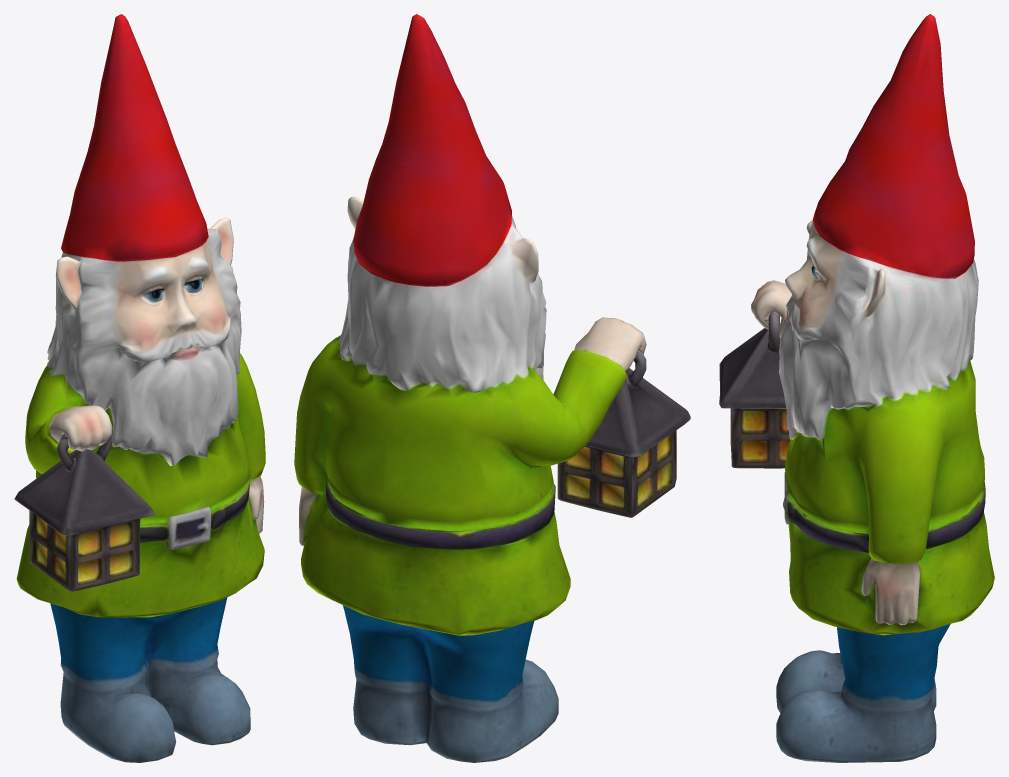
File: garden_gnome.gltf
3 renders of one model, left to right at view 1: azimuth 30°, elevation 25°; view 2: azimuth 150°, elevation 25°; view 3: azimuth 270°, elevation 25°, orthographic. The views are drawn at different scales.
Parts seen in each view (by area): view 1: garden_gnome; view 2: garden_gnome; view 3: garden_gnome.
Boxes of the visible parts, box(x1,y1,x2,y2) form: garden_gnome: box(14, 14, 265, 762); garden_gnome: box(294, 14, 690, 762); garden_gnome: box(719, 14, 994, 762).
Bounding box in the file's own units: 0.2579 × 0.599 × 0.2104.
1 material, 1 textured.
